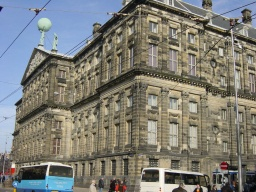bus: (139, 164, 210, 192), (13, 161, 74, 192)
